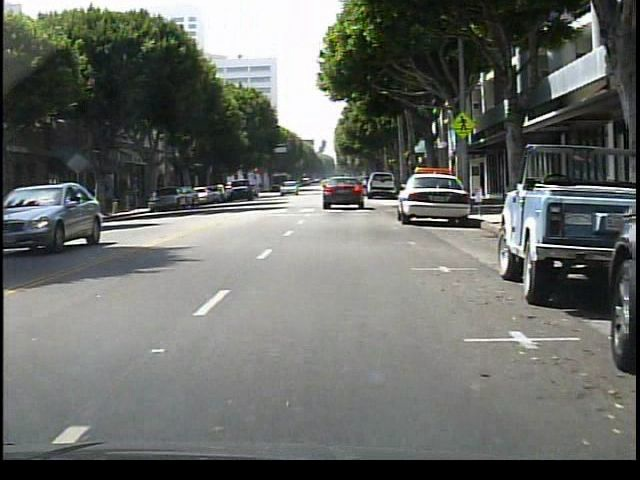person: (27, 179, 51, 229)
